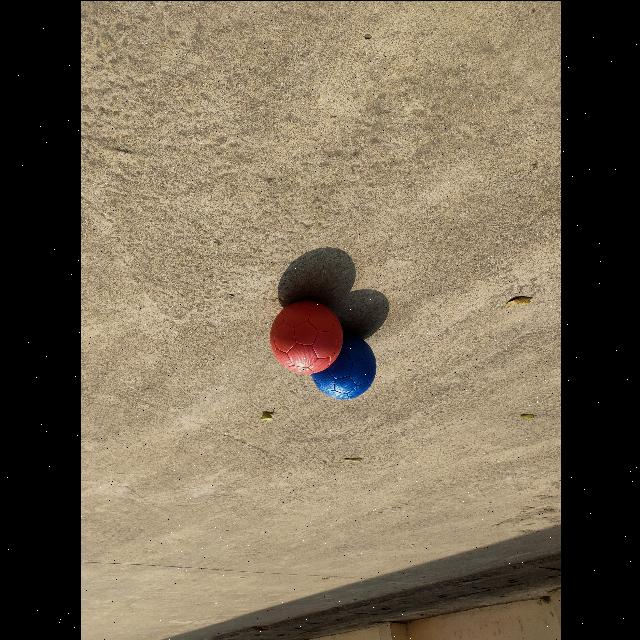B: (310, 332, 376, 399)
R: (269, 300, 342, 373)
